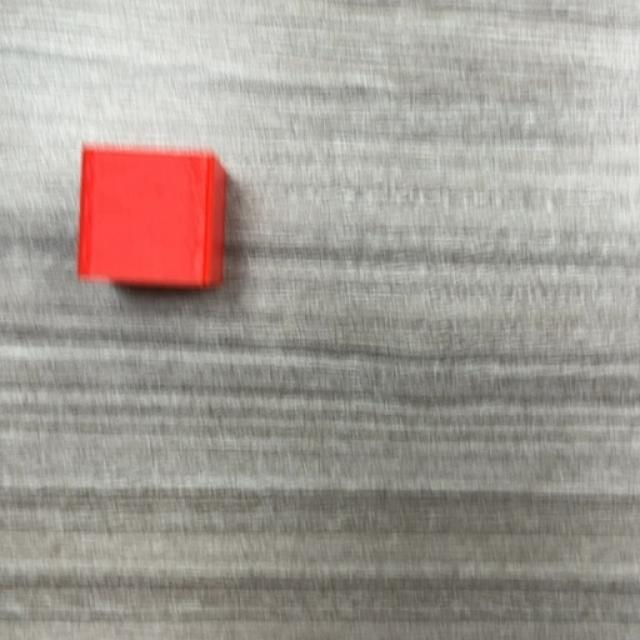Rojo: (78, 145, 229, 294)
